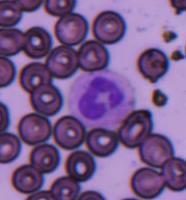N: (68, 70, 135, 130)
